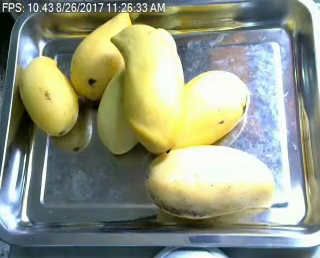Mango: (110, 22, 183, 155), (147, 147, 273, 217), (174, 70, 250, 148), (72, 6, 132, 99), (18, 55, 79, 134), (96, 62, 143, 156)
